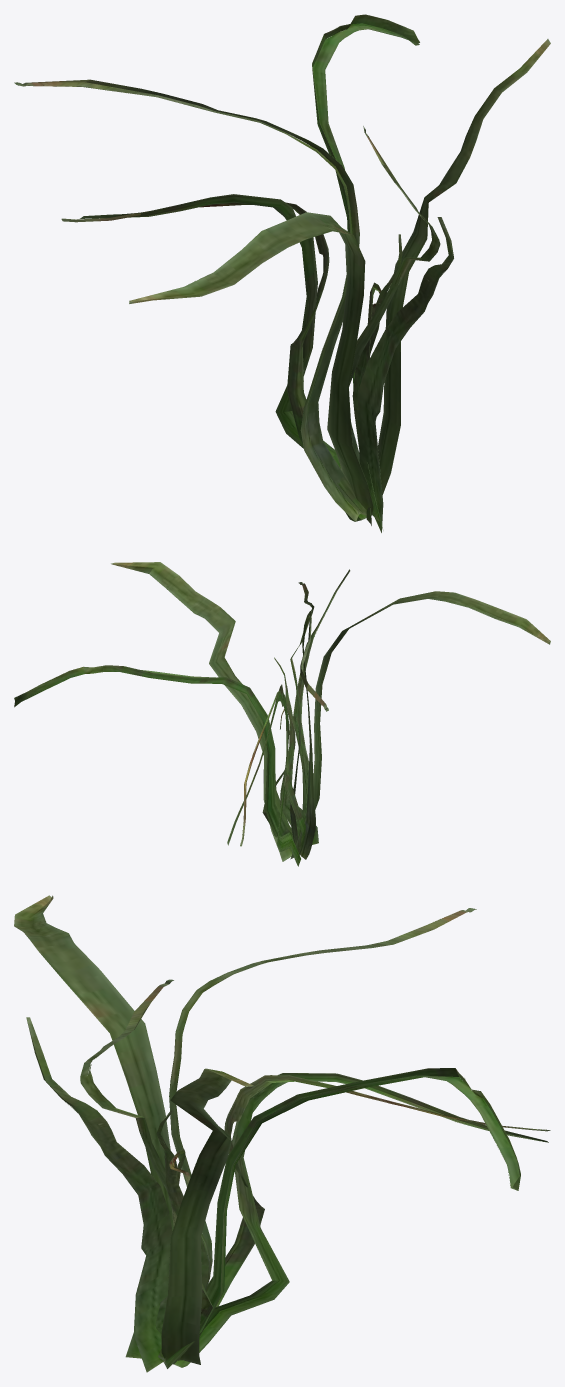
Rendered from grass_clump.glb.
3 views of the same model, one above another, from view 1: azimuth 30°, elevation 25°; view 2: azimuth 150°, elevation 25°; view 3: azimuth 270°, elevation 25° (orthographic). The views are drawn at different scales.
Parts seen in each view (by area): view 1: grass_clump; view 2: grass_clump; view 3: grass_clump.
Boxes of the visible parts, x1,y1,x2,y2 form: grass_clump: (14,14,550,532); grass_clump: (14,562,550,866); grass_clump: (14,895,550,1372).
Bounding box in the file's own units: 1.3 × 0.9433 × 1.17.
1 material, 1 textured.
